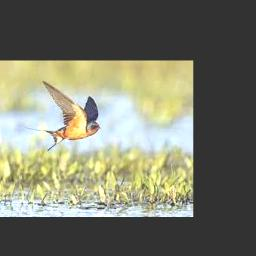Swallow: (25, 81, 100, 152)
